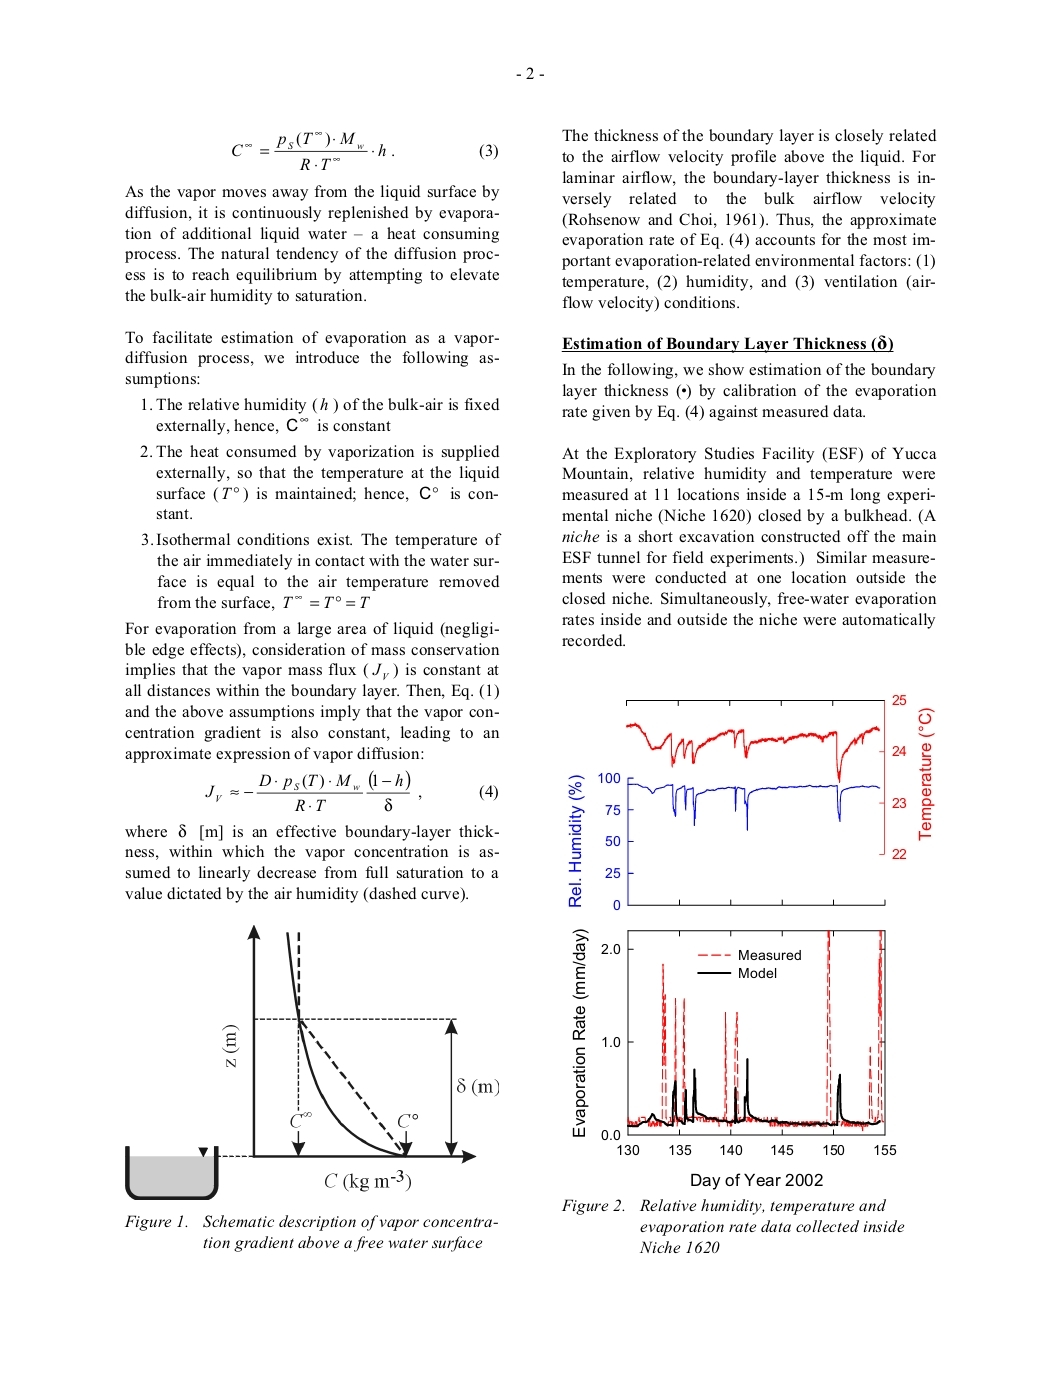figure: (125, 924, 498, 1200), (568, 693, 934, 911), (572, 929, 896, 1155)
formula: (205, 769, 497, 812), (232, 132, 497, 171)
